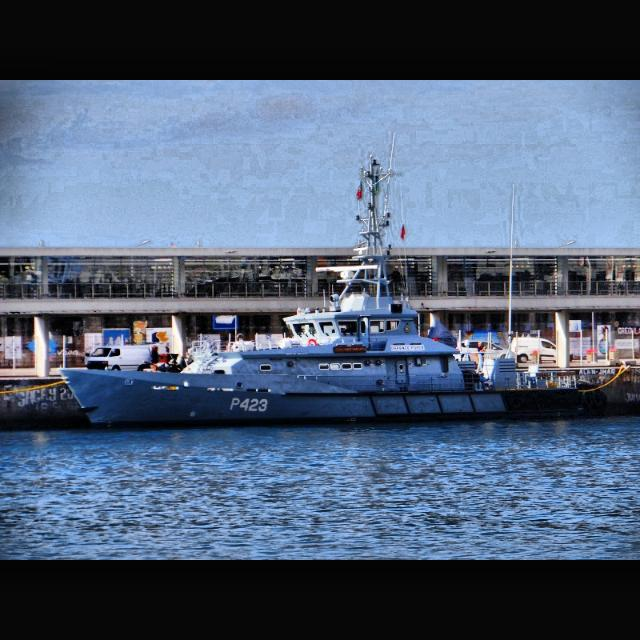patrol_vessel: (56, 151, 588, 431)
